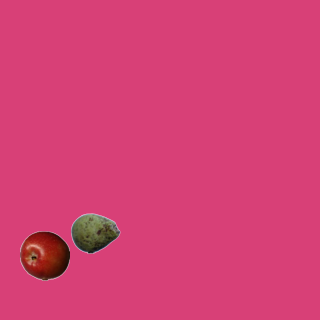Apple Braeburn: (19, 230, 69, 280)
Pear Stone: (70, 208, 120, 258)
